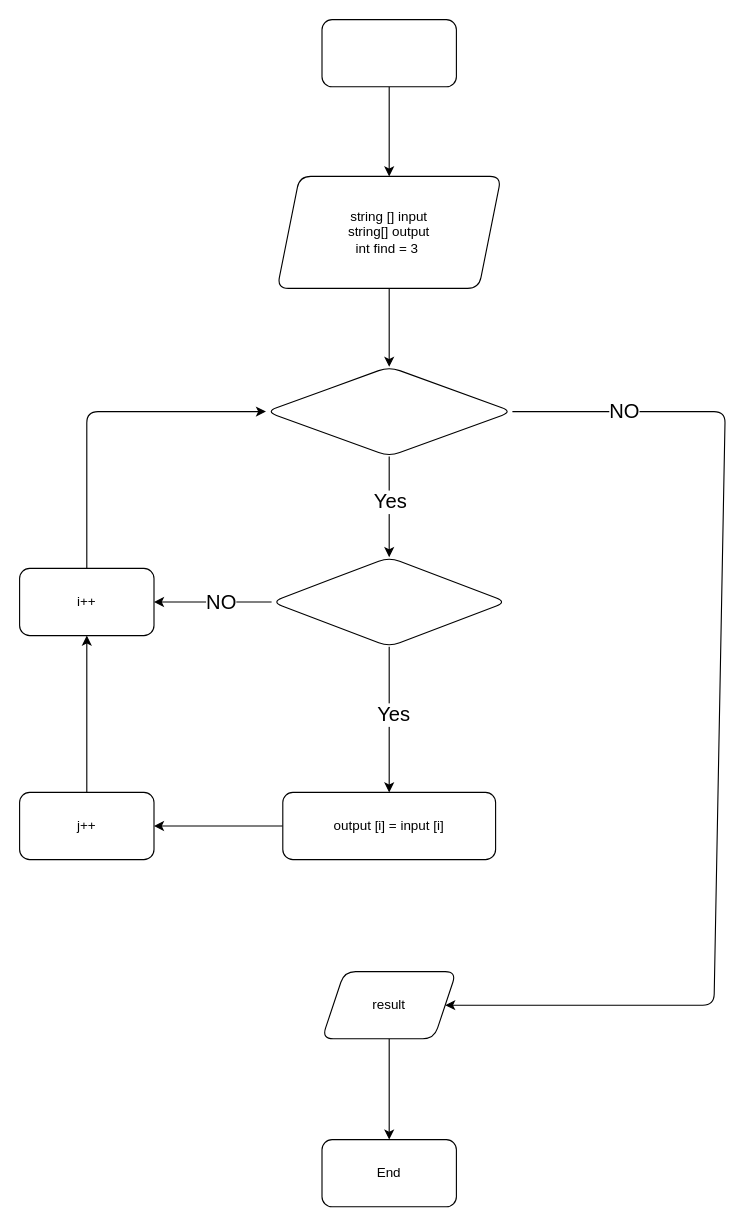
The diagram is 754 pixels wide and 1226 high, and some of its shapes have lost their labels. The shapes that lost their labels are listed below. From the top down, each one's centre as x and y in pixels, then its label:
pixel 388 52: Start
pixel 388 411: i < input.Length
pixel 388 601: input[i].Length <= find
